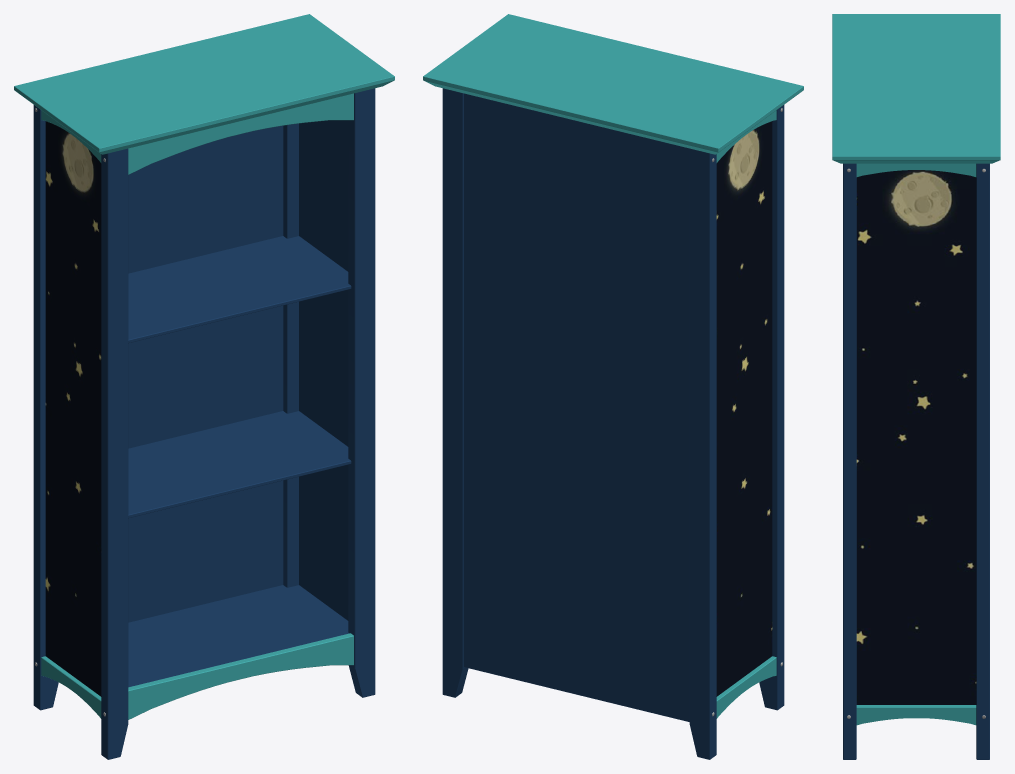
Rendered from book_shelf_final.fbx.
The picture shows the model from 3 angles, left to right: view 1: azimuth 30°, elevation 25°; view 2: azimuth 150°, elevation 25°; view 3: azimuth 270°, elevation 25°; orthographic projection.
Parts seen in each view (by area): view 1: c4eed4411cb7ace564ca08f8645e68a156d36c2f; view 2: c4eed4411cb7ace564ca08f8645e68a156d36c2f; view 3: c4eed4411cb7ace564ca08f8645e68a156d36c2f.
Boxes of the visible parts, <box> form: c4eed4411cb7ace564ca08f8645e68a156d36c2f: <box>14,14,394,759</box>; c4eed4411cb7ace564ca08f8645e68a156d36c2f: <box>423,14,803,759</box>; c4eed4411cb7ace564ca08f8645e68a156d36c2f: <box>832,14,1000,759</box>.
Size of the model in its own units: 58 by 116 by 29.
